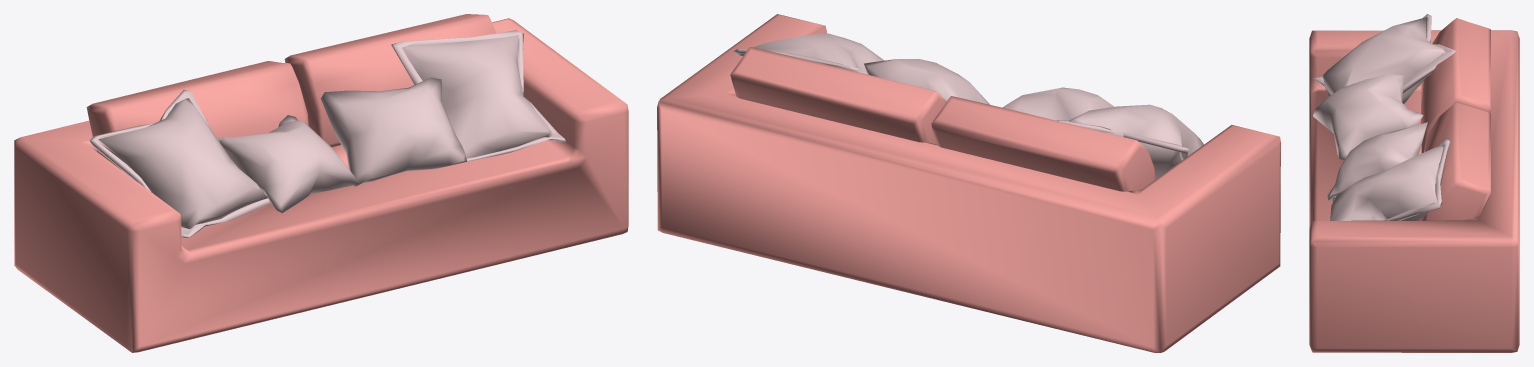
The model's file is divano.glb.
The picture shows the model from 3 angles, left to right: view 1: azimuth 30°, elevation 25°; view 2: azimuth 150°, elevation 25°; view 3: azimuth 270°, elevation 25°; orthographic projection. The views are drawn at different scales.
Visible parts, largest first — view 1: divano, cuscini2, cuscini1; view 2: divano, cuscini1, cuscini2; view 3: divano, cuscini1, cuscini2.
Part boxes in pixels (<box>): divano: <box>14,14,628,352</box>; cuscini2: <box>320,30,566,186</box>; cuscini1: <box>89,89,359,237</box>; divano: <box>657,14,1280,352</box>; cuscini1: <box>1003,87,1203,178</box>; cuscini2: <box>733,33,989,104</box>; divano: <box>1309,18,1519,352</box>; cuscini1: <box>1313,14,1455,159</box>; cuscini2: <box>1327,122,1450,220</box>.
Size of the model in its own units: 1.01 by 0.3332 by 0.421.
